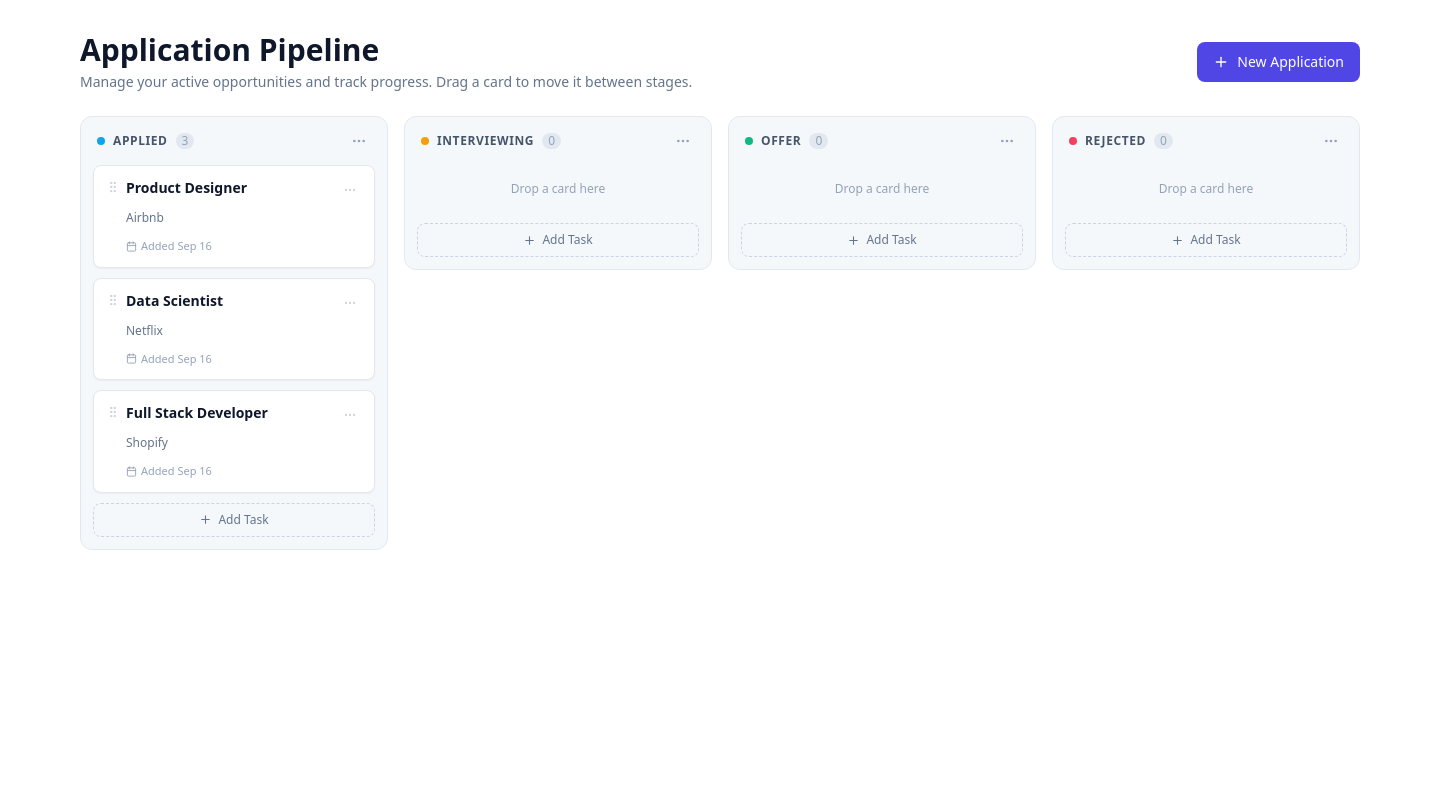
Tracker — application pipeline › deletes an application after confirming
Expected: the heading "Data Scientist" is shown, [126,290,223,310]
Step 1. Click the button without text next to "Data Scientist" → click(350, 302), box [338,290,362,314]
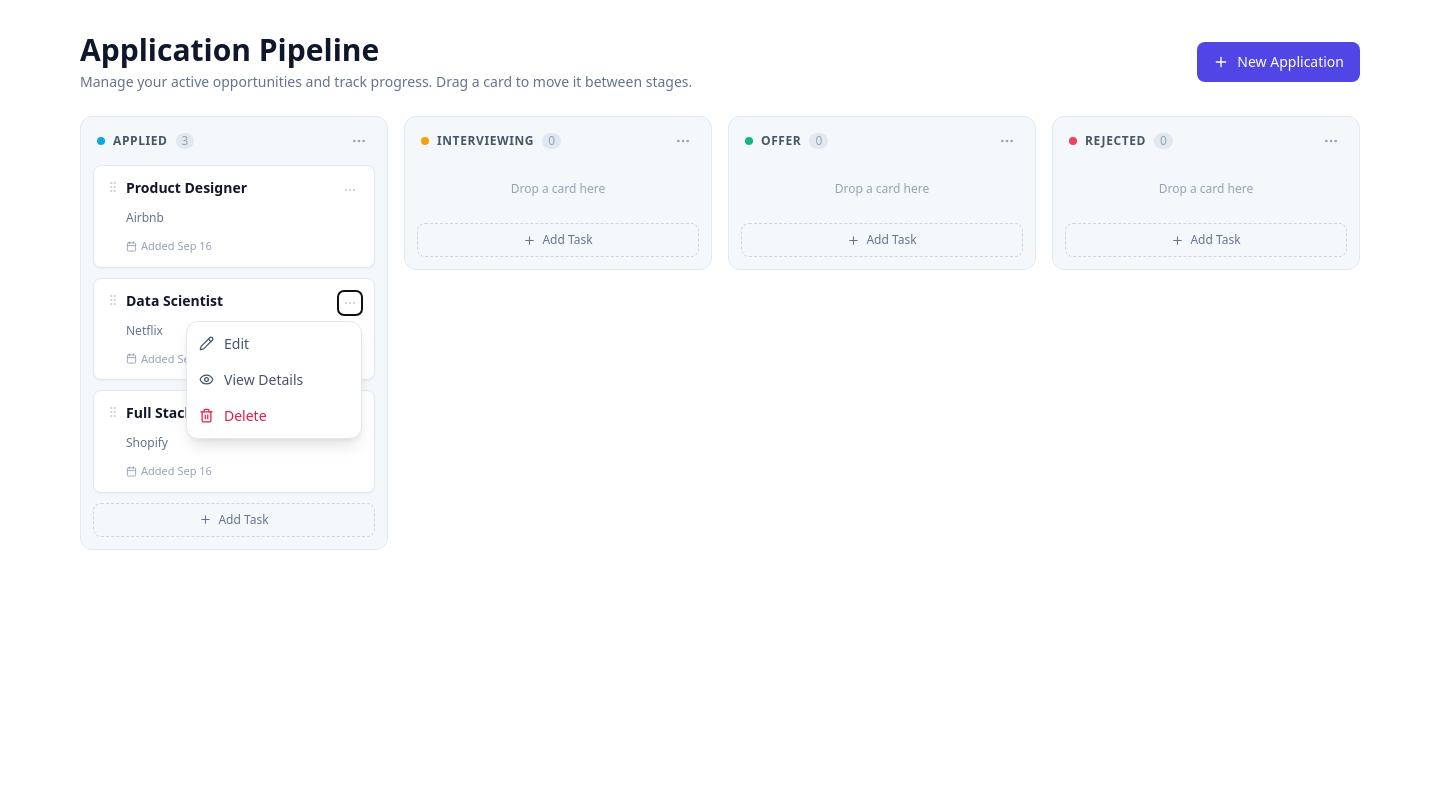
Step 2. Click the menu item "Delete" → click(274, 416), box [187,398,361,434]
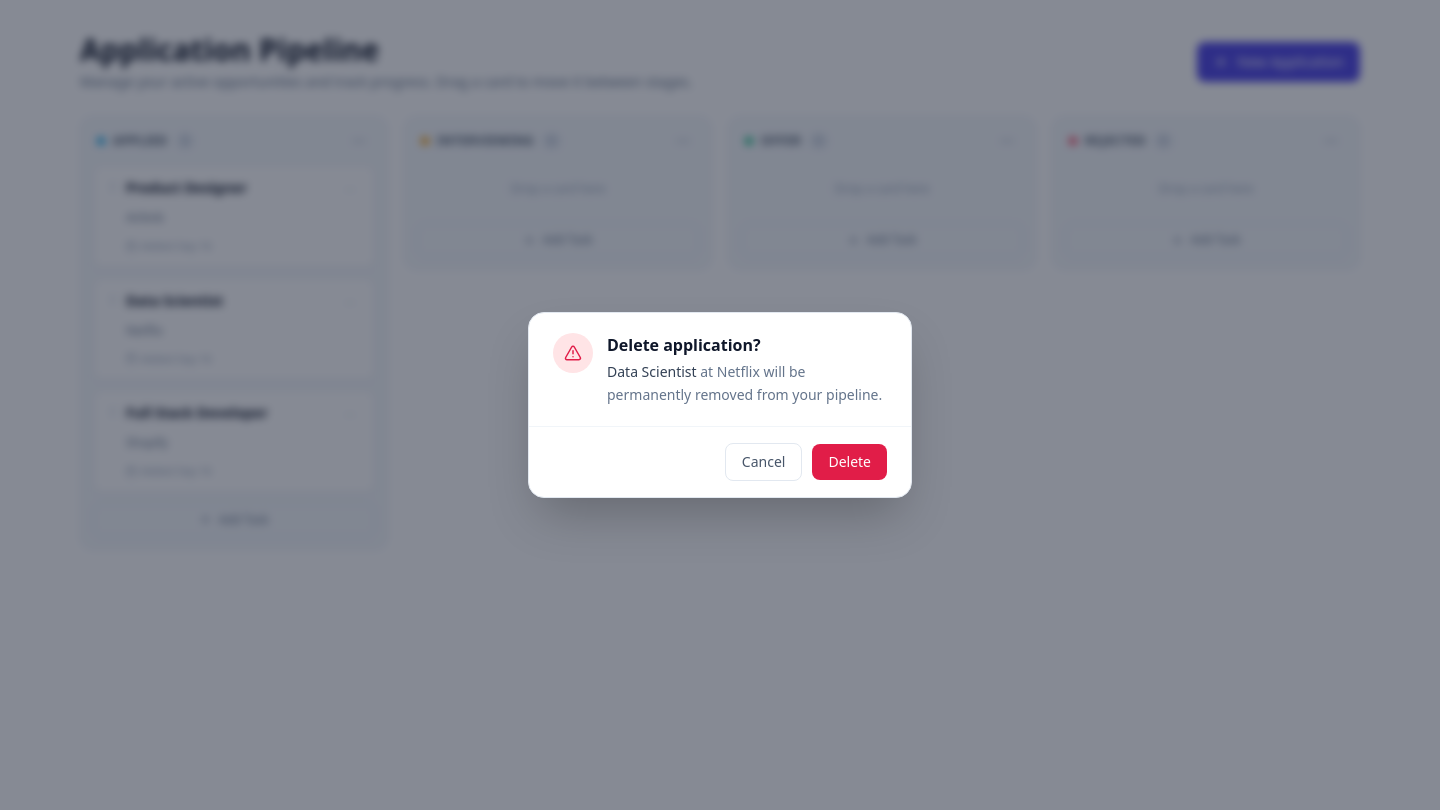
Result: the heading "Delete application?" is shown at [607,334,761,356]
Step 3. Click the button "Delete" → click(850, 462), box [812,444,887,480]
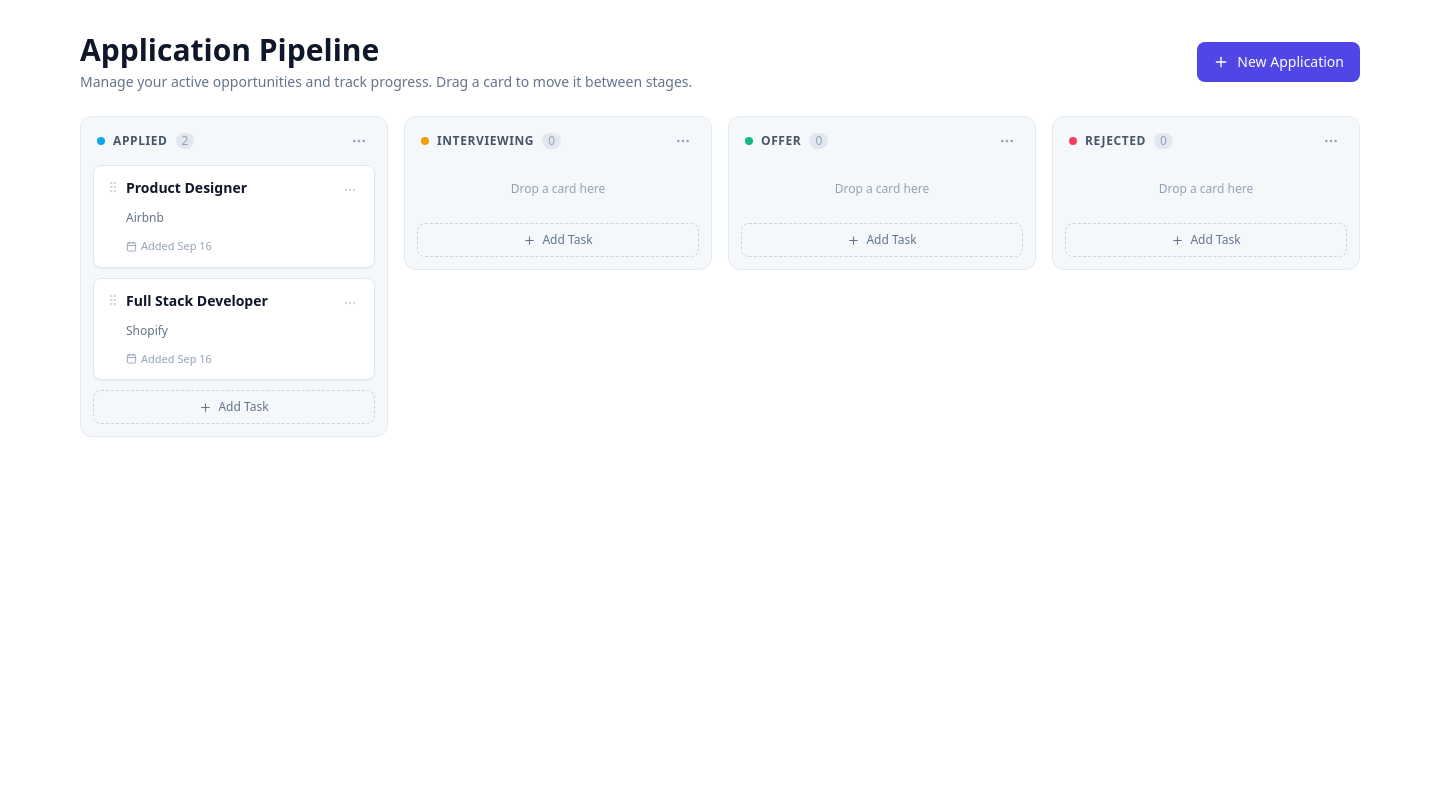
Result: the heading "Data Scientist" is gone
